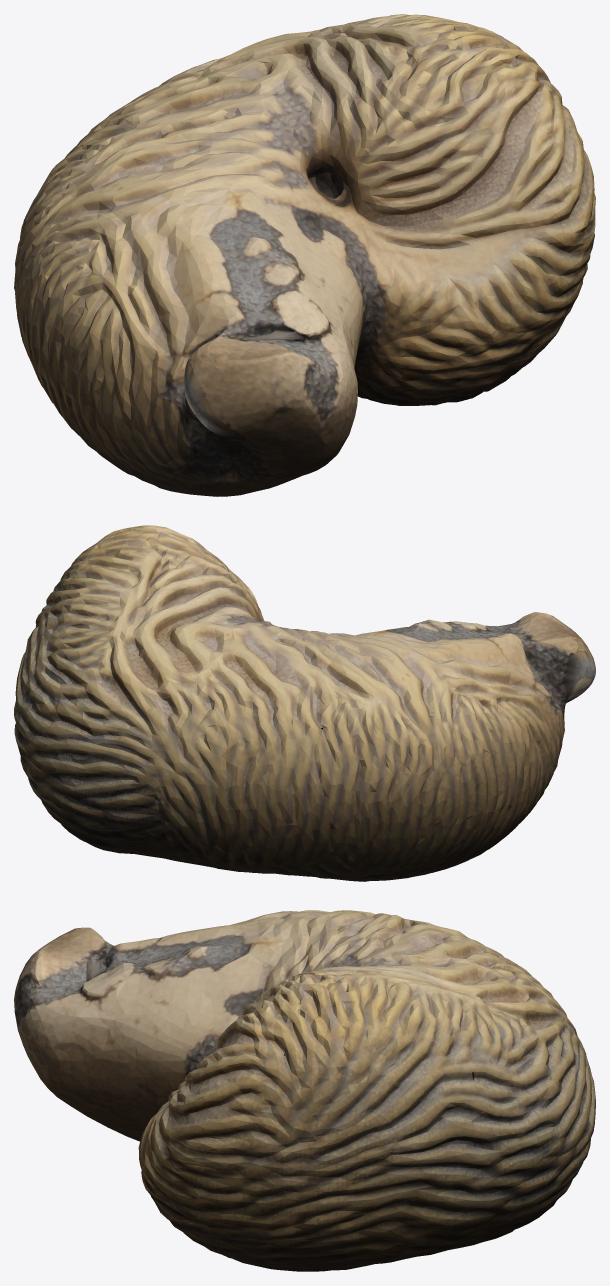
The picture shows the model from 3 angles, top to bottom: view 1: azimuth 30°, elevation 25°; view 2: azimuth 150°, elevation 25°; view 3: azimuth 270°, elevation 25°; orthographic projection. The views are drawn at different scales.
Visible parts, largest first — view 1: world; view 2: world; view 3: world.
Boxes of the visible parts, <box> form: world: <box>14,14,595,496</box>; world: <box>14,525,595,881</box>; world: <box>14,910,595,1271</box>.
Bounding box in the file's own units: 0.9312 × 0.5677 × 0.9674.
Materials: 3 (2 with a texture image).
